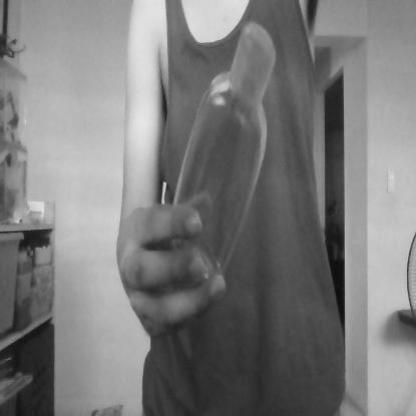Plastic Bottle: (166, 14, 279, 292)
